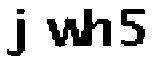5: (118, 6, 148, 52)
h: (85, 3, 115, 49)
j: (5, 5, 32, 58)
w: (43, 16, 85, 49)
